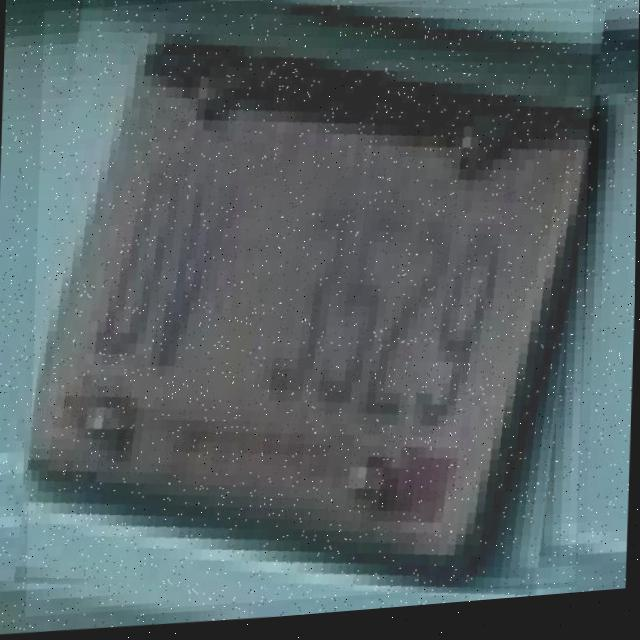LicensePlate: (27, 0, 594, 627)
